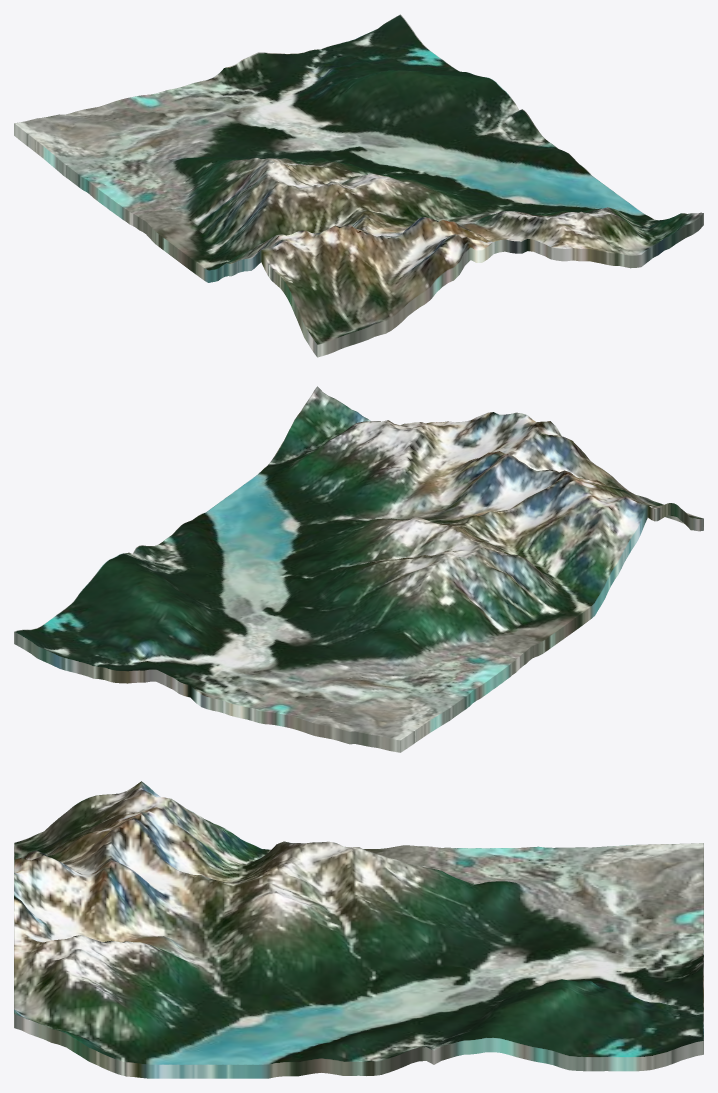
3 views of the same model, one above another, from view 1: azimuth 30°, elevation 25°; view 2: azimuth 150°, elevation 25°; view 3: azimuth 270°, elevation 25° (orthographic). The views are drawn at different scales.
Visible parts, largest first — view 1: tile; view 2: tile; view 3: tile.
Part boxes in pixels (left/top/right/bottom): tile: left=14, top=14, right=703, bottom=357; tile: left=14, top=386, right=703, bottom=752; tile: left=14, top=781, right=703, bottom=1078.
Size of the model in its own units: 8100 by 1652 by 11010.
Materials: 1 (1 with a texture image).
